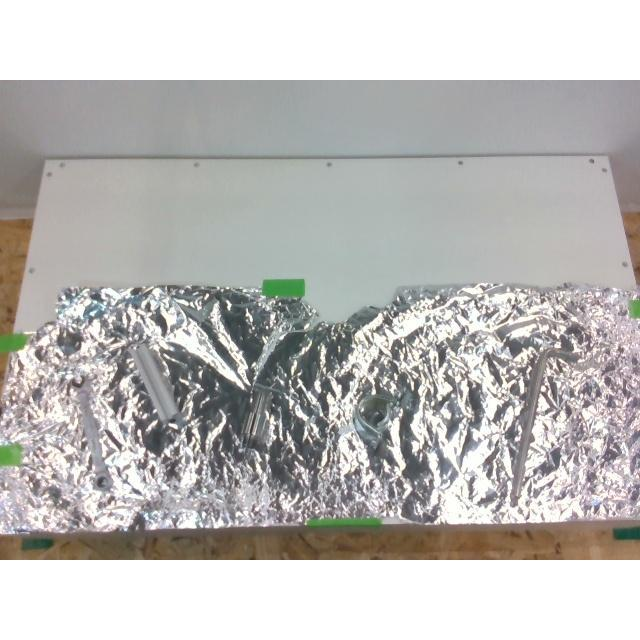AllenKey: (510, 348, 570, 504)
Axis2: (242, 384, 272, 448)
F20_20_G: (130, 345, 186, 427)
Housing: (356, 394, 412, 454)
Wrench: (72, 378, 112, 490)
